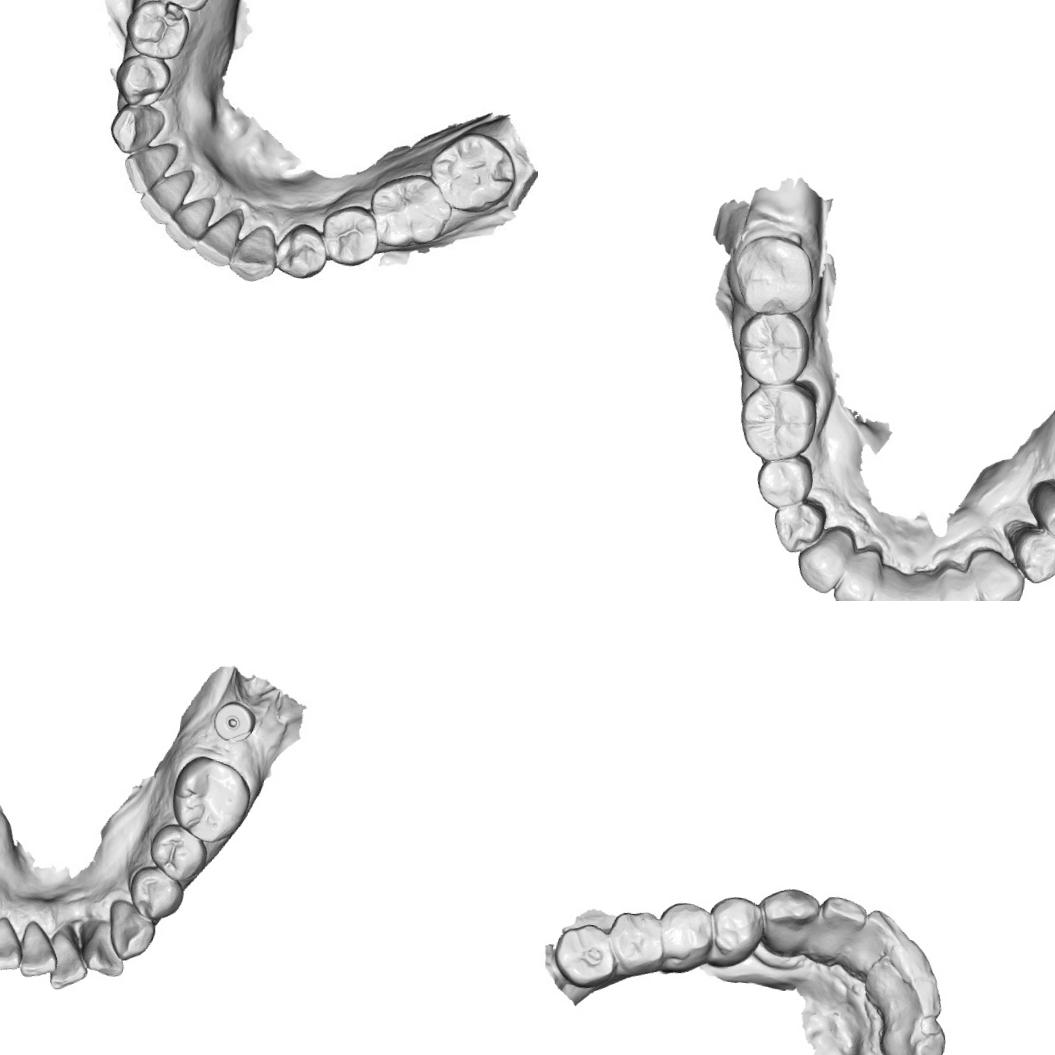canine: (755, 884, 821, 964), (794, 524, 856, 598), (102, 897, 162, 966), (107, 101, 166, 162), (964, 547, 1029, 601), (228, 224, 282, 287), (874, 1014, 949, 1055)
implant: (208, 696, 260, 750)
incisor: (840, 904, 906, 978), (867, 931, 936, 998), (809, 892, 869, 966), (878, 966, 947, 1028), (77, 918, 132, 980), (13, 916, 63, 982), (45, 926, 92, 994), (830, 544, 882, 601), (122, 141, 172, 198), (144, 171, 192, 228), (196, 210, 240, 262), (170, 197, 210, 245), (0, 912, 27, 976), (938, 566, 984, 601), (867, 566, 909, 601), (902, 570, 944, 601)
molar: (424, 124, 520, 220), (164, 751, 258, 849), (729, 230, 821, 321), (734, 378, 821, 466), (363, 170, 453, 253), (733, 306, 814, 390), (550, 920, 622, 992), (604, 907, 668, 978)
premolar: (705, 891, 766, 973), (653, 898, 716, 977), (142, 820, 212, 888), (318, 200, 382, 274), (124, 862, 190, 926), (752, 448, 816, 512), (1000, 517, 1055, 587), (129, 0, 189, 62), (272, 221, 330, 284), (770, 498, 829, 558), (115, 56, 171, 108), (1025, 479, 1055, 549)
